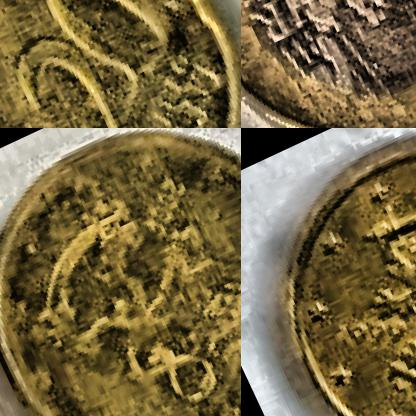coin: (0, 128, 240, 415), (241, 128, 415, 415), (0, 0, 240, 127), (241, 0, 415, 127)
